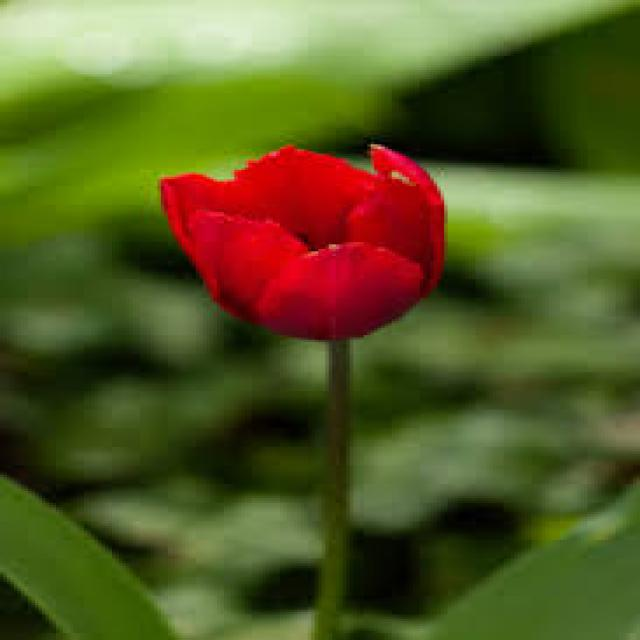tulip: (118, 130, 487, 363)
